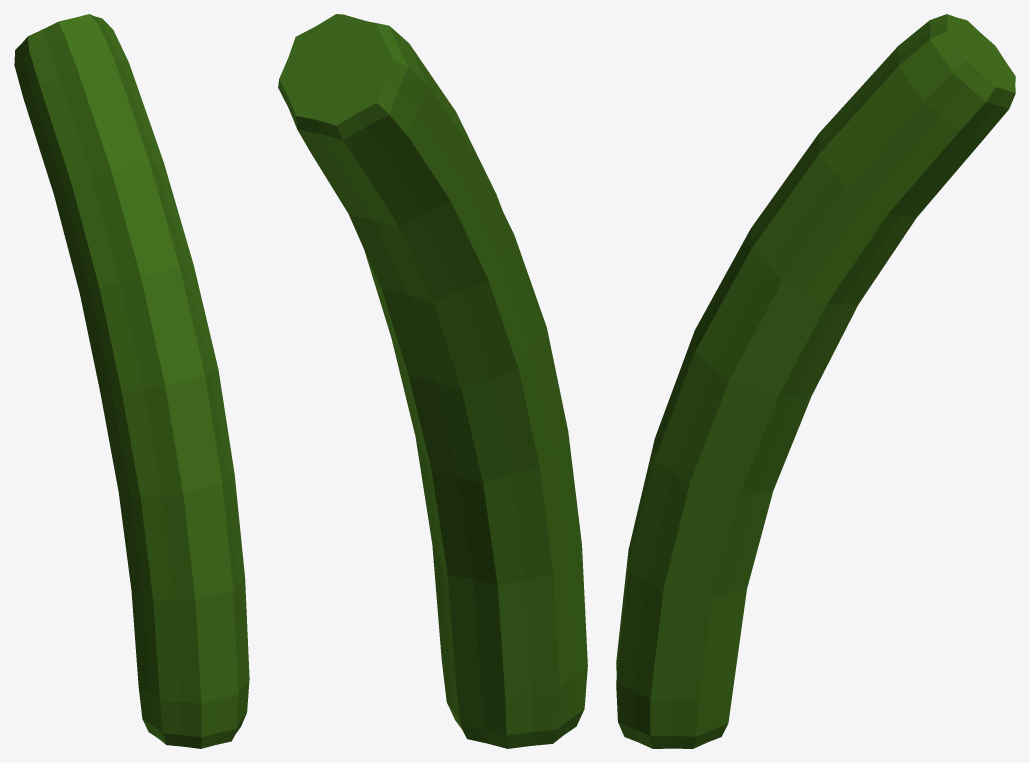
Rendered from Cactus_06_A.fbx.
3 views of the same model, side by side, from view 1: azimuth 30°, elevation 25°; view 2: azimuth 150°, elevation 25°; view 3: azimuth 270°, elevation 25° (orthographic). The views are drawn at different scales.
Visible parts, largest first — view 1: Cactus_06_A; view 2: Cactus_06_A; view 3: Cactus_06_A.
Boxes of the visible parts, x1=… form: Cactus_06_A: x1=14, y1=14, x2=249, y2=748; Cactus_06_A: x1=278, y1=14, x2=587, y2=748; Cactus_06_A: x1=616, y1=14, x2=1015, y2=748.
Size of the model in its own units: 38.24 by 236 by 121.
